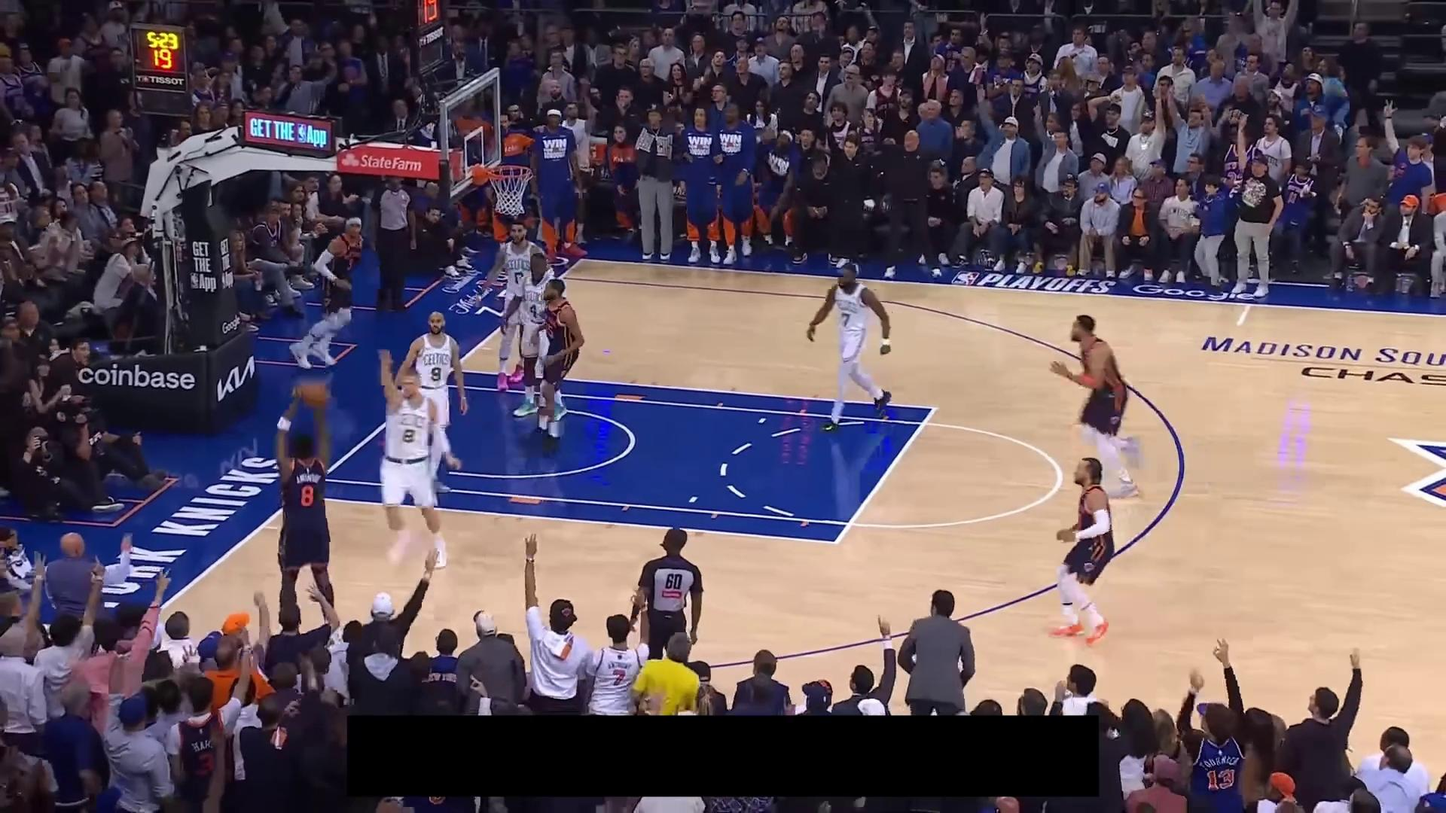ball: (295, 377, 330, 409)
number: (300, 485, 314, 508), (542, 320, 555, 339), (403, 428, 416, 444), (527, 301, 538, 318), (431, 366, 442, 382), (514, 270, 525, 286), (841, 311, 852, 327), (346, 258, 354, 270)
player: (370, 343, 461, 572), (1049, 313, 1148, 503), (804, 259, 894, 436), (386, 311, 473, 493), (1047, 454, 1118, 647), (288, 212, 368, 371), (498, 250, 571, 423), (478, 216, 544, 396), (528, 277, 588, 432)
player-jump-shot: (275, 377, 344, 631)
referee: (626, 524, 706, 660), (367, 172, 418, 309)
rim: (486, 162, 535, 180)
